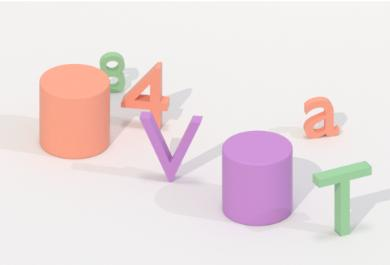0-KhoiTru: (217, 125, 297, 231), (35, 62, 114, 164)
4: (119, 58, 173, 132)
8: (95, 48, 127, 97)
T: (309, 157, 377, 241)
V: (135, 109, 207, 187)
a: (300, 93, 342, 144)
